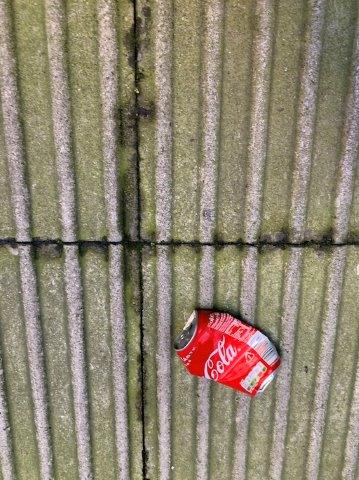kaleng: (174, 310, 280, 395)
